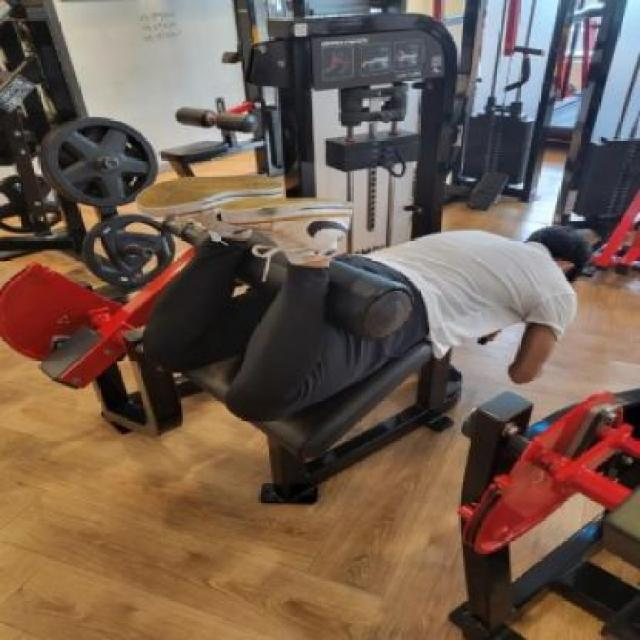reg curl machine: (5, 14, 606, 509)
